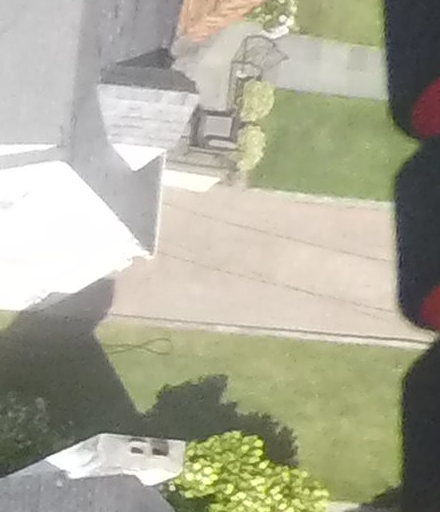chair: (198, 104, 243, 153)
